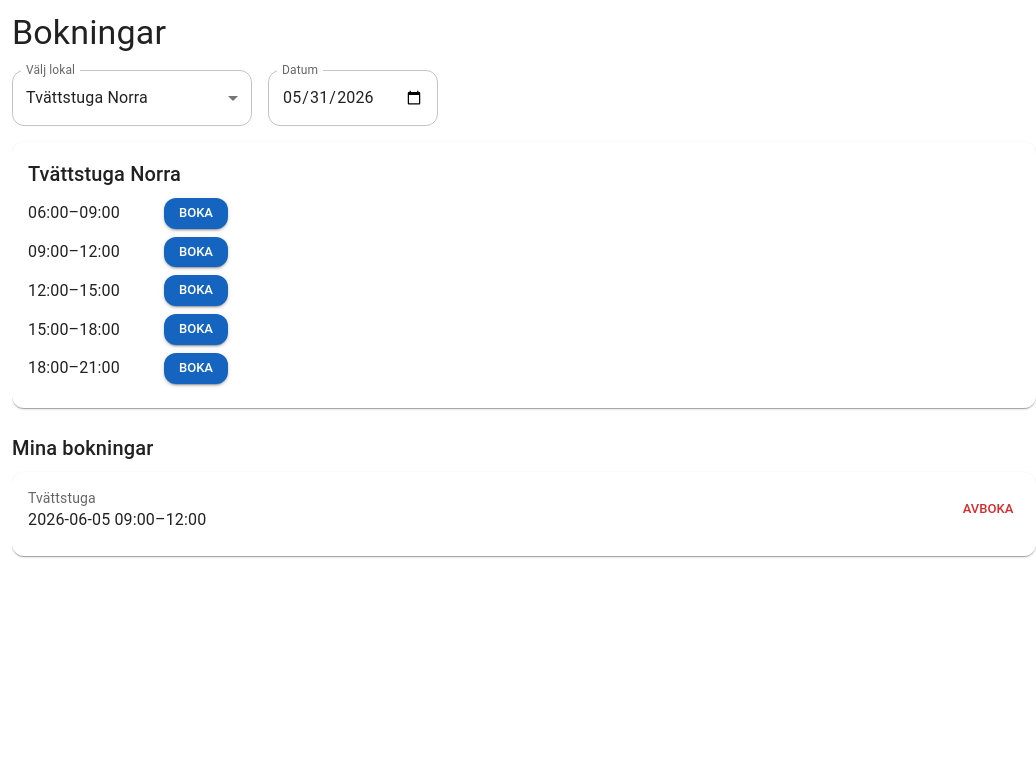
Test: ResidentBookingsPage › lists facilities only from the resident's building (Norra)
The image size is (1036, 780).
Click the dropdown named "välj lokal" at (87, 98), box [26,88,148,108]
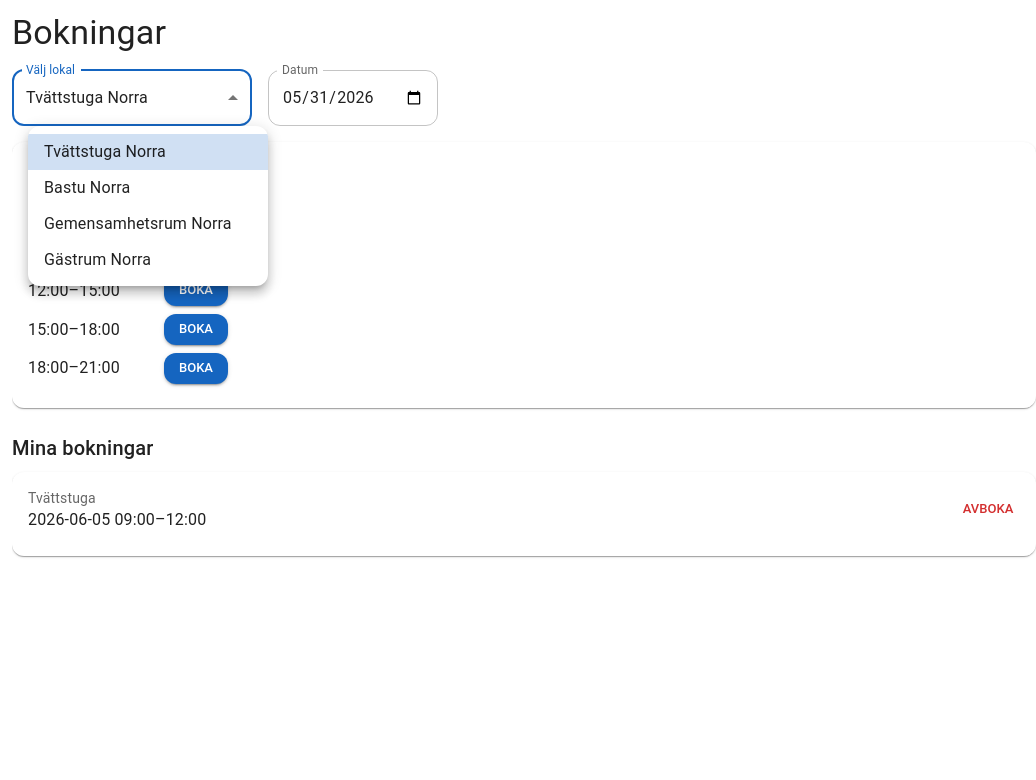
Now the option "Tvättstuga Norra" is shown, box [28,134,268,170]
